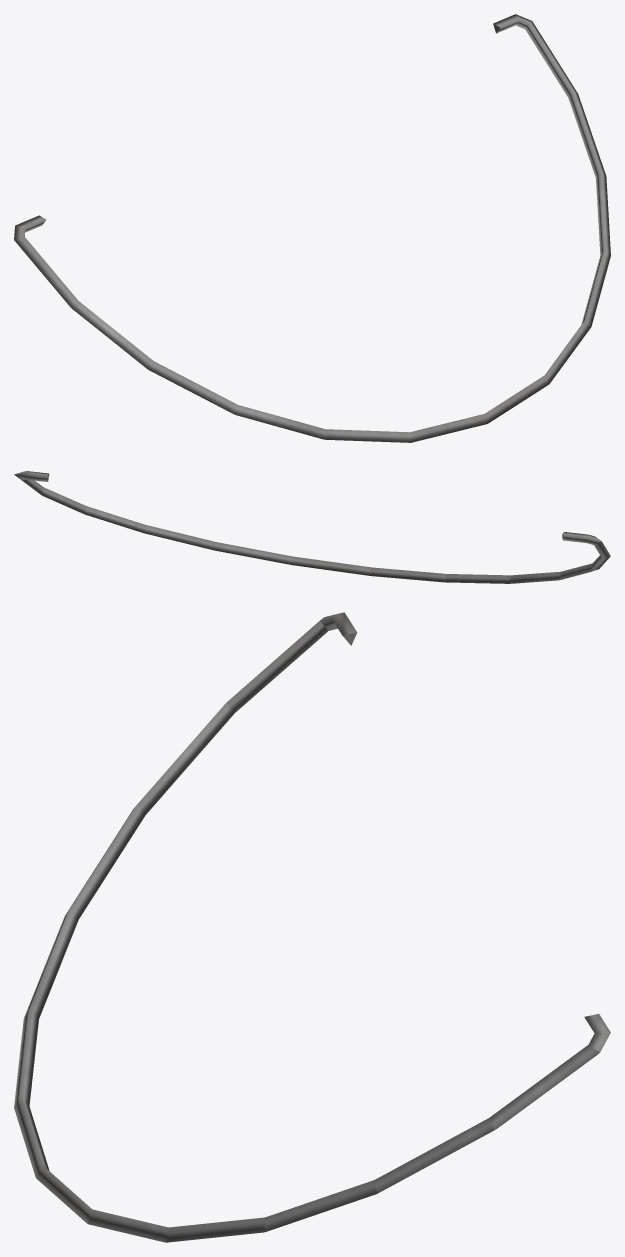
File: original-6.obj
3 renders of one model, top to bottom at view 1: azimuth 30°, elevation 25°; view 2: azimuth 150°, elevation 25°; view 3: azimuth 270°, elevation 25°, orthographic. The views are drawn at different scales.
Parts seen in each view (by area): view 1: #ID51.006, #ID51.007, #ID51.008, #ID51.009, #ID51.015, #ID51.005, #ID51.004, #ID51.014, #ID51.010, #ID51.013, #ID51.011, #ID51.012; view 2: #ID51.011, #ID51.012, #ID51.010, #ID51.013, #ID51.009, #ID51.014, #ID51.008, #ID51.015, #ID51.002, #ID51.003, #ID51.007; view 3: #ID51.006, #ID51.015, #ID51.004, #ID51.007, #ID51.005, #ID51.014, #ID51.008, #ID51.013, #ID51.009, #ID51.012, #ID51.010, #ID51.011.
Boxes of the visible parts, x1=… form: #ID51.006: x1=71, y1=301, x2=153, y2=369; #ID51.007: x1=148, y1=361, x2=237, y2=414; #ID51.008: x1=235, y1=405, x2=325, y2=439; #ID51.009: x1=324, y1=429, x2=410, y2=442; #ID51.015: x1=568, y1=92, x2=606, y2=177; #ID51.005: x1=14, y1=237, x2=78, y2=307; #ID51.004: x1=525, y1=21, x2=577, y2=97; #ID51.014: x1=596, y1=172, x2=610, y2=255; #ID51.010: x1=410, y1=414, x2=487, y2=442; #ID51.013: x1=581, y1=250, x2=610, y2=326; #ID51.011: x1=485, y1=375, x2=549, y2=423; #ID51.012: x1=545, y1=319, x2=591, y2=383; #ID51.011: x1=292, y1=556, x2=371, y2=575; #ID51.012: x1=214, y1=542, x2=293, y2=564; #ID51.010: x1=371, y1=567, x2=446, y2=582; #ID51.013: x1=144, y1=524, x2=215, y2=550; #ID51.009: x1=445, y1=574, x2=510, y2=583; #ID51.014: x1=85, y1=506, x2=144, y2=532; #ID51.008: x1=509, y1=571, x2=560, y2=583; #ID51.015: x1=42, y1=487, x2=86, y2=514; #ID51.002: x1=562, y1=532, x2=601, y2=544; #ID51.003: x1=14, y1=471, x2=49, y2=481; #ID51.007: x1=559, y1=563, x2=592, y2=580; #ID51.006: x1=137, y1=703, x2=234, y2=814; #ID51.015: x1=374, y1=1118, x2=494, y2=1193; #ID51.004: x1=489, y1=1045, x2=599, y2=1129; #ID51.007: x1=65, y1=805, x2=145, y2=919; #ID51.005: x1=226, y1=621, x2=328, y2=712; #ID51.014: x1=264, y1=1180, x2=376, y2=1232; #ID51.008: x1=24, y1=910, x2=78, y2=1018; #ID51.013: x1=166, y1=1217, x2=264, y2=1242; #ID51.009: x1=14, y1=1009, x2=38, y2=1107; #ID51.012: x1=88, y1=1209, x2=168, y2=1242; #ID51.010: x1=14, y1=1096, x2=49, y2=1177; #ID51.011: x1=36, y1=1165, x2=92, y2=1223.
Size of the model in its own units: 1.55 by 0.5001 by 0.8852.
